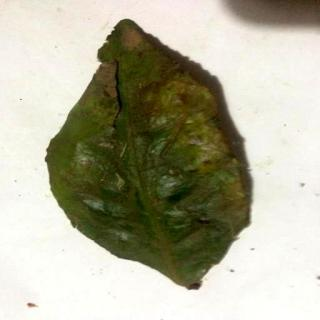Red Leaf Spot: (47, 26, 248, 289)
